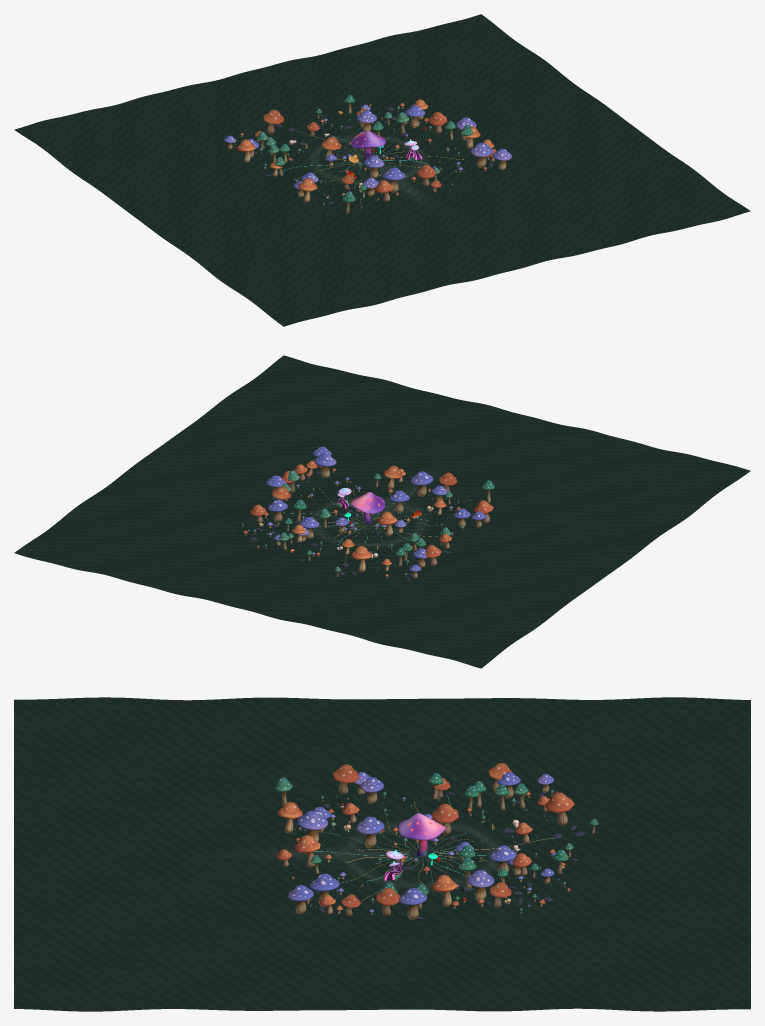
File: psylo-static.glb
The picture shows the model from 3 angles, top to bottom: view 1: azimuth 30°, elevation 25°; view 2: azimuth 150°, elevation 25°; view 3: azimuth 270°, elevation 25°; orthographic projection. The views are drawn at different scales.
Visible parts, largest first — view 1: psylo.terrain, psylo.source.1.M_Mushroom_Small, psylo.source.1.M_Mushroom_Large, psylo.source.1.M_Mushroom_Thin, psylo.source.0.mushroms; view 2: psylo.terrain, psylo.source.1.M_Mushroom_Large, psylo.source.1.M_Mushroom_Small, psylo.source.1.M_Mushroom_Thin, psylo.source.0.mushroms; view 3: psylo.terrain, psylo.source.1.M_Mushroom_Small, psylo.source.1.M_Mushroom_Large, psylo.source.1.M_Mushroom_Thin, psylo.source.0.mushroms, psylo.stone.
Boxes of the visible parts, bbox=[...] form: psylo.terrain: bbox=[14, 14, 750, 326]; psylo.source.1.M_Mushroom_Small: bbox=[237, 99, 496, 202]; psylo.source.1.M_Mushroom_Large: bbox=[224, 104, 511, 197]; psylo.source.1.M_Mushroom_Thin: bbox=[234, 95, 491, 214]; psylo.source.0.mushroms: bbox=[348, 131, 385, 166]; psylo.terrain: bbox=[14, 355, 750, 668]; psylo.source.1.M_Mushroom_Large: bbox=[248, 446, 486, 578]; psylo.source.1.M_Mushroom_Small: bbox=[243, 460, 493, 578]; psylo.source.1.M_Mushroom_Thin: bbox=[241, 470, 495, 577]; psylo.source.0.mushroms: bbox=[344, 492, 385, 523]; psylo.terrain: bbox=[14, 697, 750, 1011]; psylo.source.1.M_Mushroom_Small: bbox=[276, 763, 574, 916]; psylo.source.1.M_Mushroom_Large: bbox=[288, 772, 559, 919]; psylo.source.1.M_Mushroom_Thin: bbox=[274, 773, 598, 913]; psylo.source.0.mushroms: bbox=[398, 813, 446, 865]; psylo.stone: bbox=[293, 791, 585, 919].
Bounding box in the file's own units: 150 × 9.72 × 150.
Materials: 19 (10 with a texture image).
